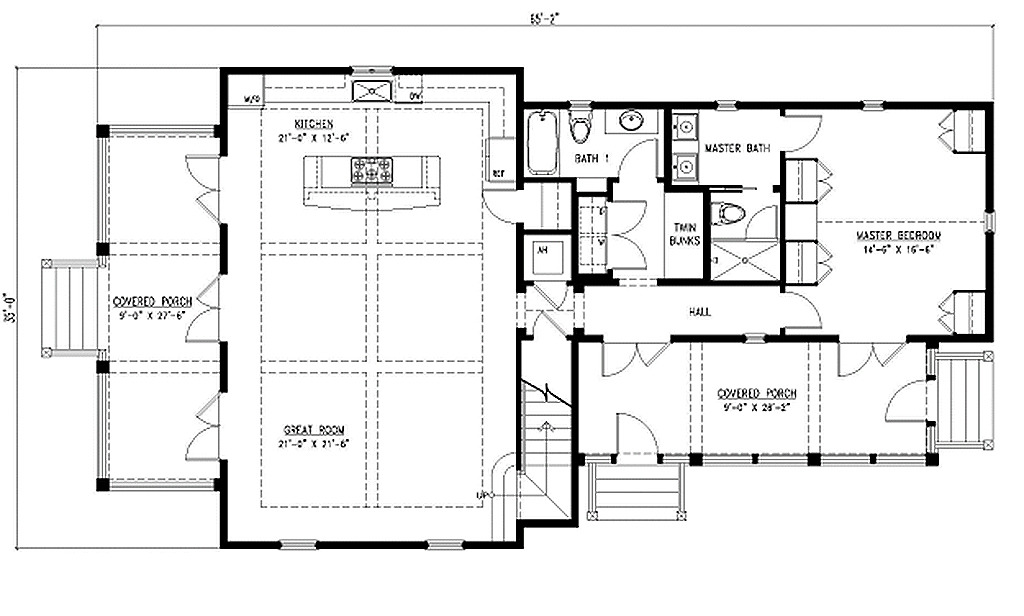door: (833, 339, 912, 378), (612, 197, 650, 277), (180, 388, 218, 464), (182, 275, 223, 343), (596, 338, 663, 379), (184, 151, 221, 223), (612, 412, 662, 462), (776, 288, 829, 335), (884, 378, 926, 424), (615, 135, 657, 177), (783, 112, 825, 151), (531, 309, 569, 345), (745, 202, 780, 237), (935, 109, 958, 149), (534, 280, 565, 308), (935, 292, 955, 332), (817, 156, 834, 200), (815, 241, 831, 282)
large_sink: (564, 105, 595, 145), (710, 199, 744, 226)
small_sink: (602, 103, 667, 133)
stairs: (476, 372, 572, 550), (586, 457, 689, 522), (39, 257, 107, 355), (930, 350, 996, 446)
tub: (519, 108, 561, 178)
windows: (812, 452, 936, 469), (699, 450, 806, 468), (276, 537, 323, 552), (350, 63, 402, 75), (418, 540, 465, 552)
